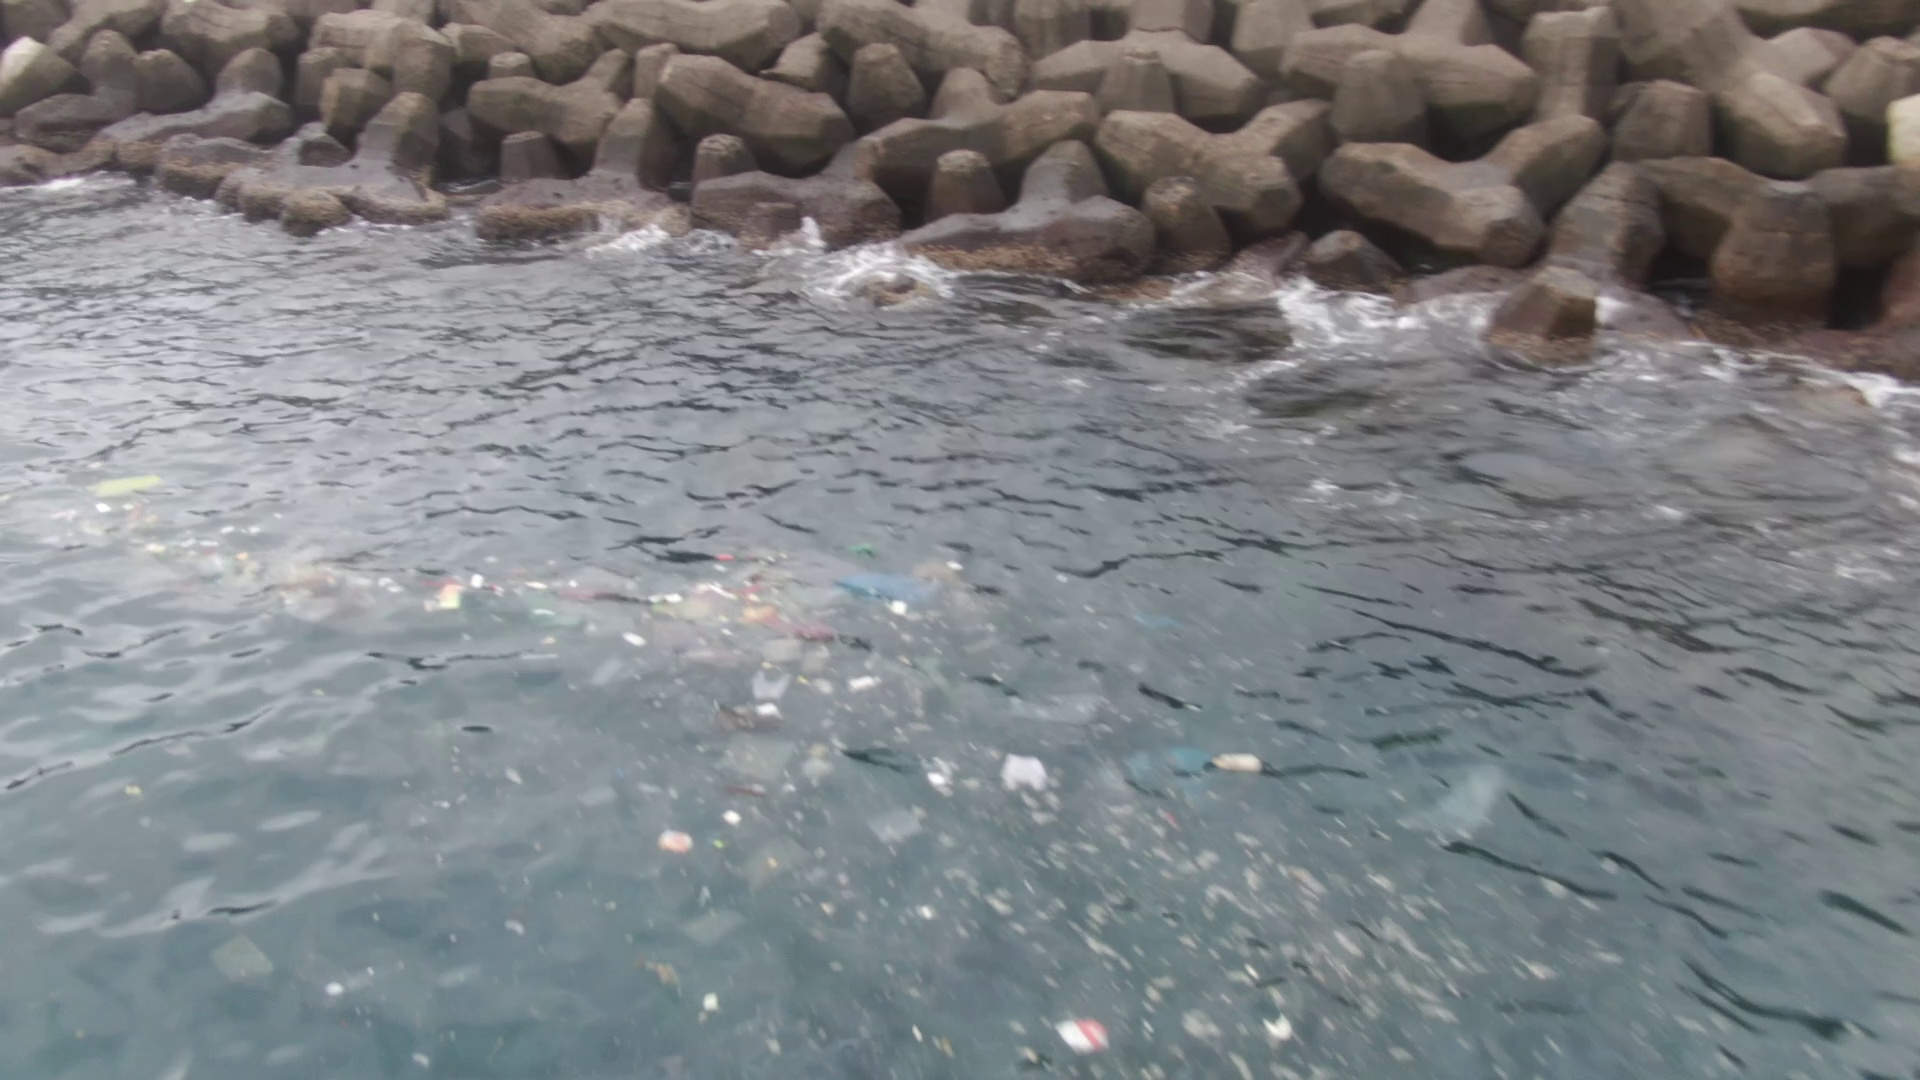garbage: (655, 698, 1548, 1079), (694, 538, 964, 690), (367, 558, 584, 626), (585, 564, 688, 679), (41, 469, 171, 545), (268, 541, 345, 617), (189, 524, 255, 579)
